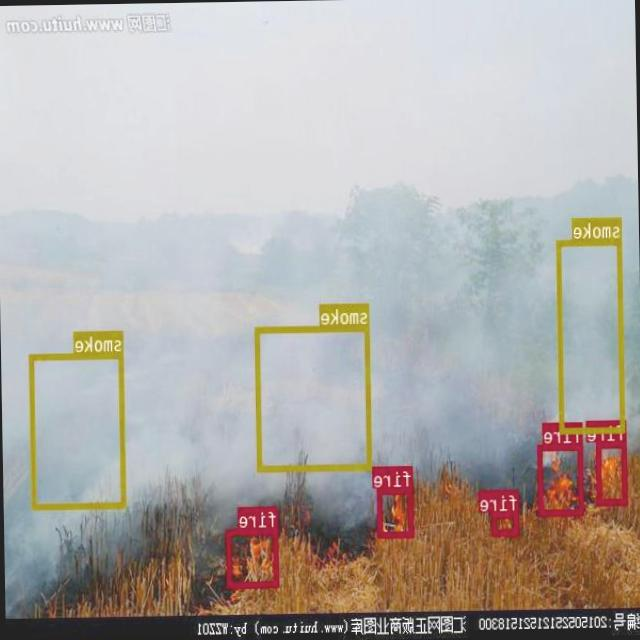fire: (538, 442, 584, 515), (227, 527, 279, 586), (596, 440, 628, 504), (378, 486, 413, 537), (492, 510, 520, 535)
smoke: (256, 324, 373, 471), (30, 350, 126, 509), (557, 238, 626, 432)
